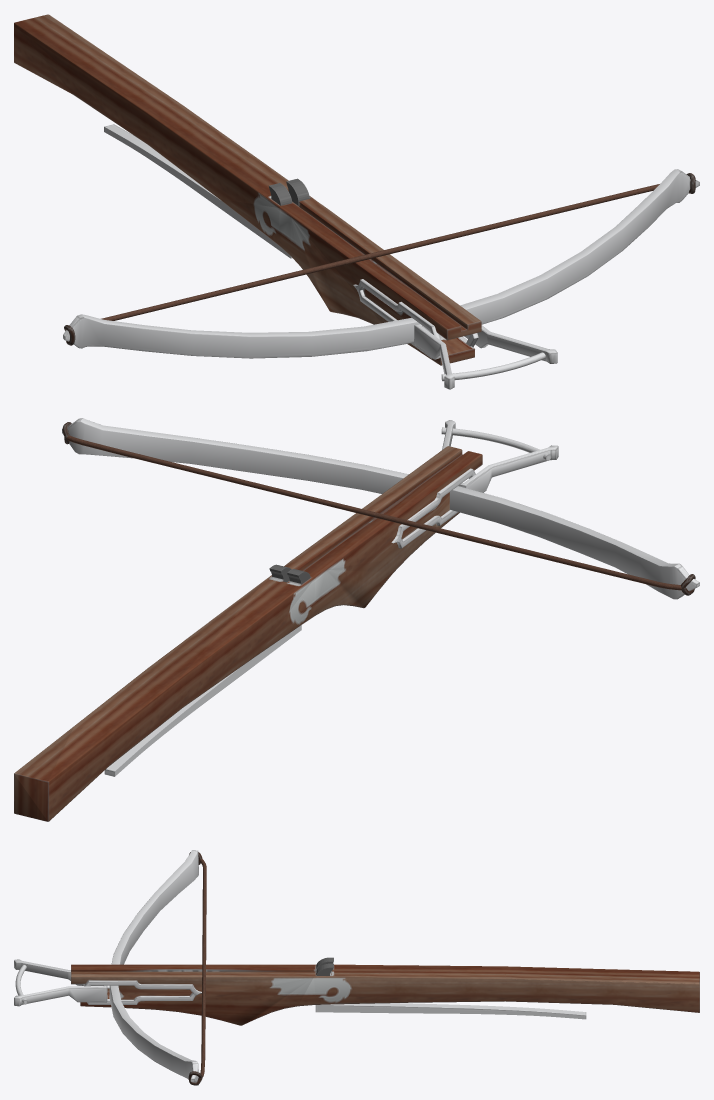
File: crossbow.glb
The picture shows the model from 3 angles, top to bottom: view 1: azimuth 30°, elevation 25°; view 2: azimuth 150°, elevation 25°; view 3: azimuth 270°, elevation 25°; orthographic projection. The views are drawn at different scales.
Visible parts, largest first — view 1: Crossbow, rope, Object001, Rope-Metal; view 2: Crossbow, rope, Object001; view 3: Crossbow, Object001, rope.
Part boxes in pixels (bbox=[...]): Crossbow: bbox=[14, 14, 699, 389]; rope: bbox=[101, 184, 659, 320]; Object001: bbox=[104, 124, 292, 258]; Rope-Metal: bbox=[269, 178, 309, 205]; Crossbow: bbox=[14, 418, 699, 821]; rope: bbox=[66, 435, 681, 590]; Object001: bbox=[104, 625, 301, 776]; Crossbow: bbox=[14, 850, 699, 1085]; Object001: bbox=[315, 1003, 586, 1019]; rope: bbox=[199, 859, 206, 1076].
Bounding box in the file's own units: 0.7753 × 0.1028 × 1.
1 material, 1 textured.
